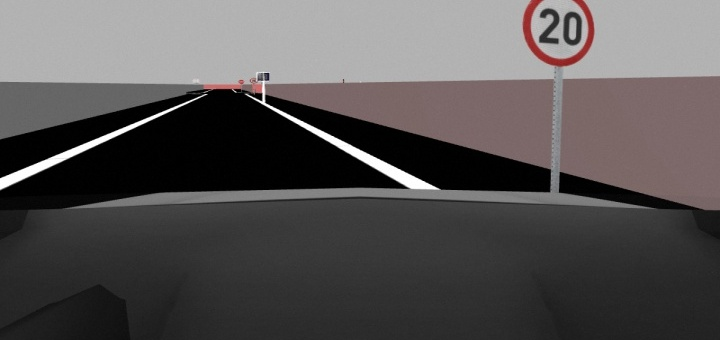hiz_20: (512, 1, 600, 65)
